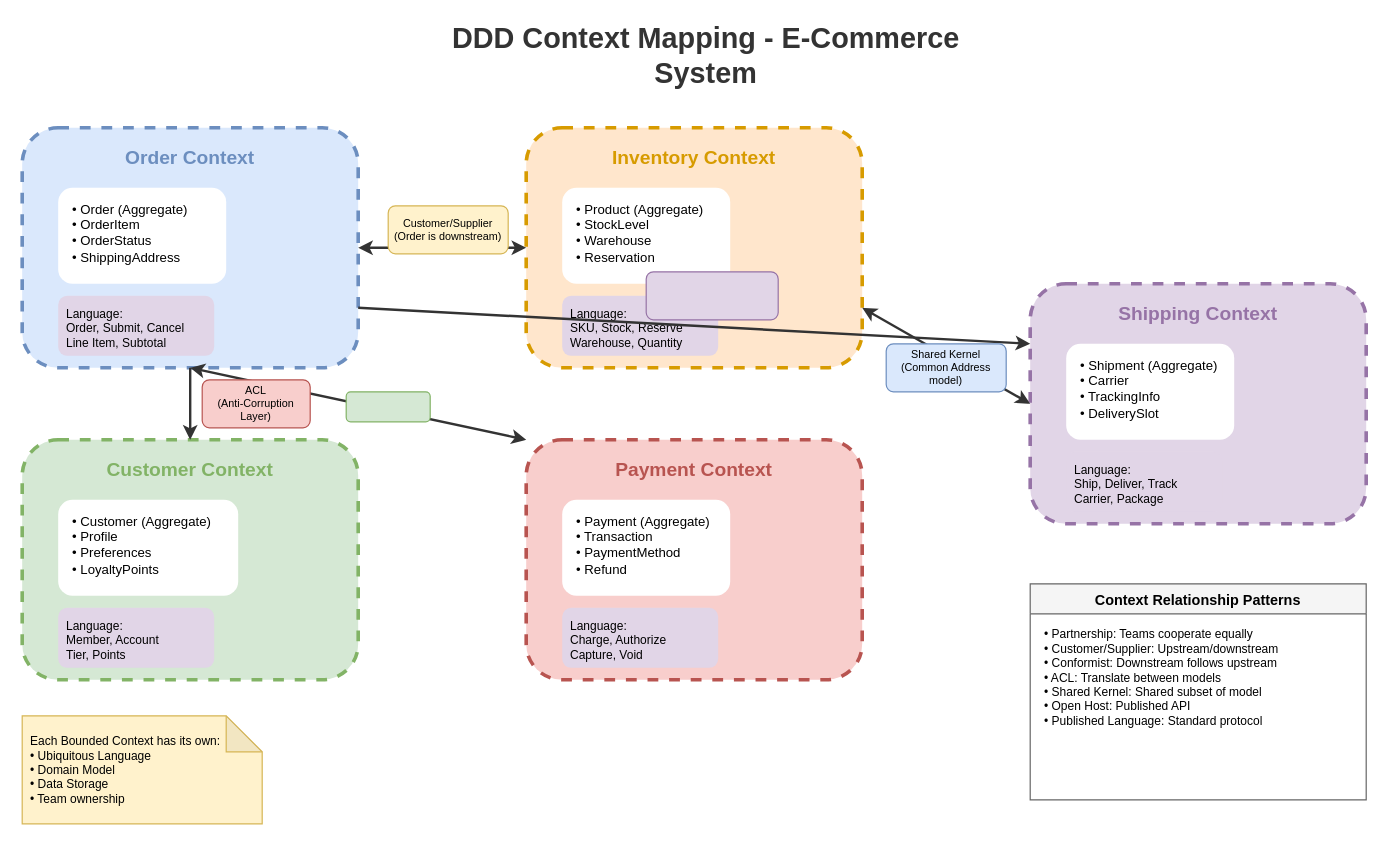
Some shapes in this 1388 by 845 pixel diagram are drawn without their labels. Here are the shapes that lost their labels. From the top down, the centre of each, then its label:
At [711,295]: "Conformist (Order conforms to Shipping)".
At [387,406]: "Partnership".
